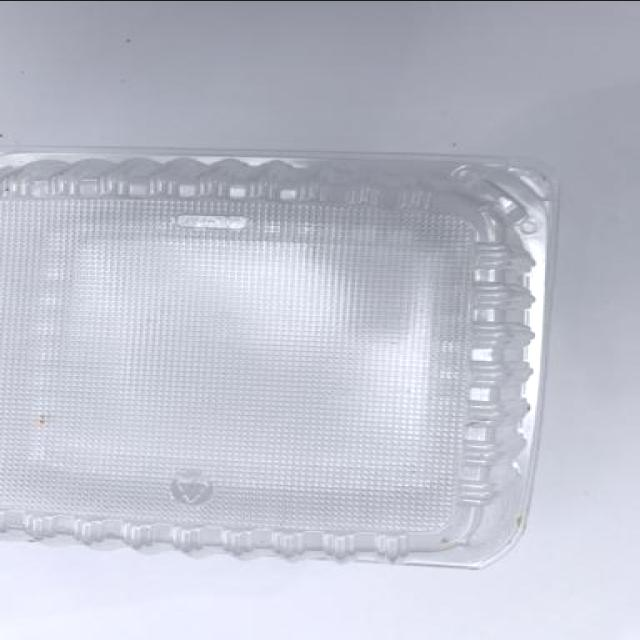plastic: (1, 158, 530, 536)
